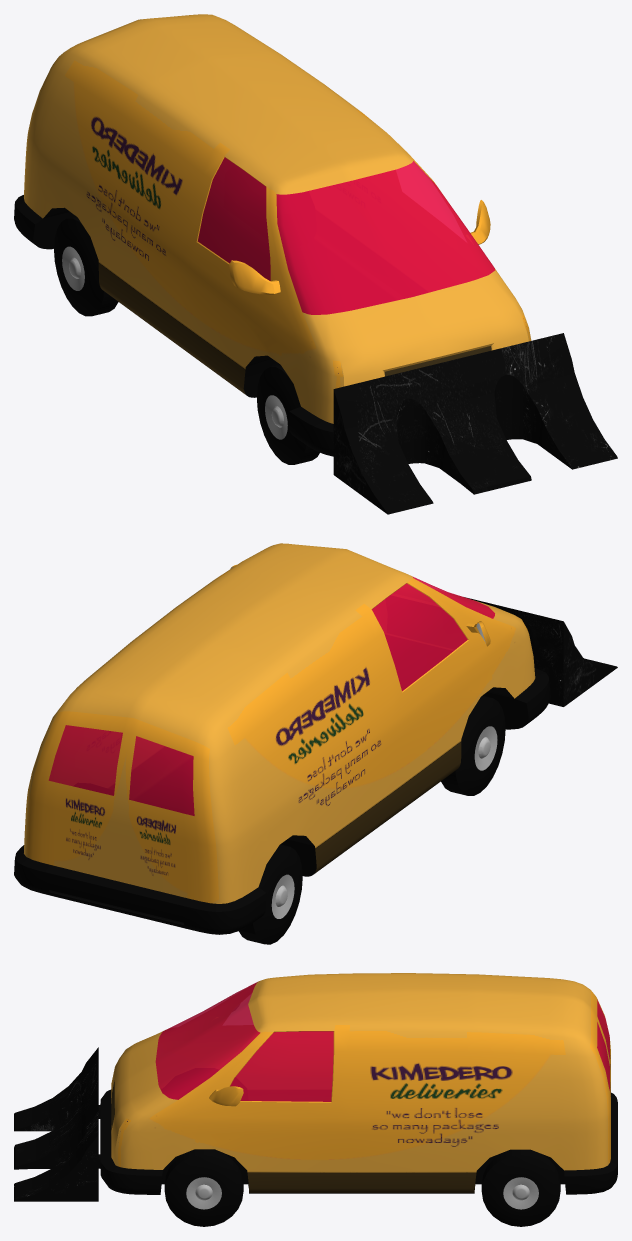
Rendered from Delivery Time Van Enforcer.glb.
The picture shows the model from 3 angles, top to bottom: view 1: azimuth 30°, elevation 25°; view 2: azimuth 150°, elevation 25°; view 3: azimuth 270°, elevation 25°; orthographic projection. The views are drawn at different scales.
Parts seen in each view (by area): view 1: BODY-RIGID, COWFUCKER-COL, BACK.RIGHT-WHEEL, FRONT.RIGHT-WHEEL, MIRRORS; view 2: BODY-RIGID, COWFUCKER-COL, FRONT.RIGHT-WHEEL, BACK.RIGHT-WHEEL; view 3: BODY-RIGID, COWFUCKER-COL, FRONT.LEFT-WHEEL, BACK.LEFT-WHEEL, MIRRORS.
Boxes of the visible parts, box(x1,y1,x2,y2) form: BODY-RIGID: box(14, 14, 531, 456); COWFUCKER-COL: box(333, 333, 617, 514); BACK.RIGHT-WHEEL: box(54, 216, 118, 316); FRONT.RIGHT-WHEEL: box(256, 364, 319, 464); MIRRORS: box(229, 200, 490, 294); BODY-RIGID: box(14, 543, 550, 934); COWFUCKER-COL: box(464, 597, 617, 706); FRONT.RIGHT-WHEEL: box(441, 695, 505, 795); BACK.RIGHT-WHEEL: box(239, 844, 302, 944); BODY-RIGID: box(100, 973, 617, 1194); COWFUCKER-COL: box(14, 1047, 100, 1201); FRONT.LEFT-WHEEL: box(164, 1149, 243, 1226); BACK.LEFT-WHEEL: box(481, 1149, 560, 1226); MIRRORS: box(209, 1086, 243, 1106).
Bounding box in the file's own units: 2.22 × 2.11 × 5.82.
Materials: 8 (2 with a texture image).
